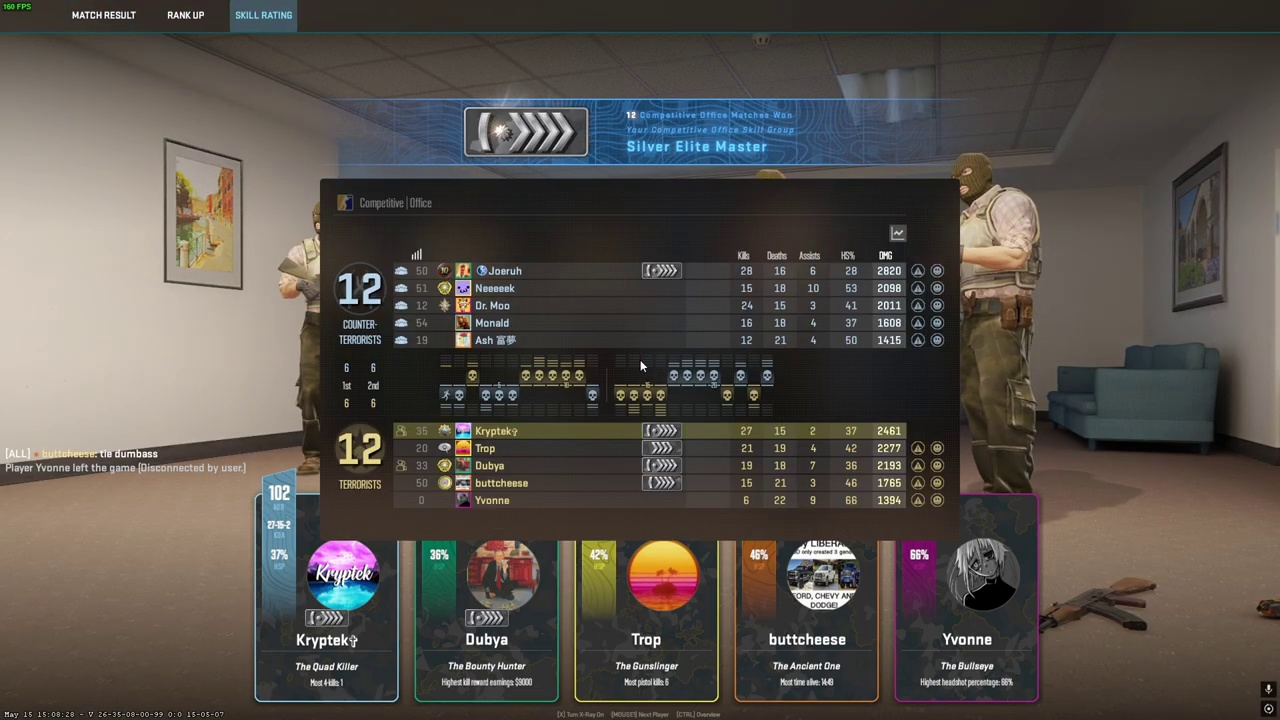Terrorist: (956, 153, 1042, 493), (283, 198, 320, 474)
